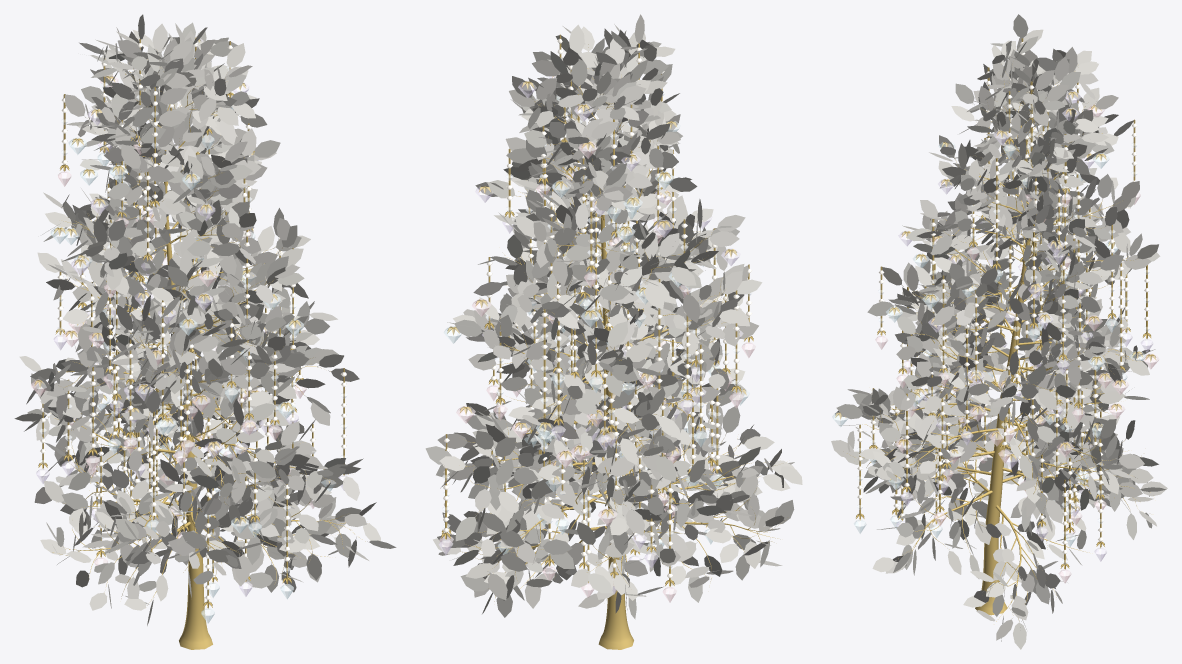
File: houju_tree.glb
The picture shows the model from 3 angles, left to right: view 1: azimuth 30°, elevation 25°; view 2: azimuth 150°, elevation 25°; view 3: azimuth 270°, elevation 25°; orthographic projection. The views are drawn at different scales.
Parts seen in each view (by area): view 1: Leaves, pearl_batch, gold_wire, mizu_batch, fuji_batch, sakura_batch, gold_fitting, Branches2, hari_batch, Trunk, Branches1; view 2: Leaves, gold_wire, pearl_batch, sakura_batch, mizu_batch, gold_fitting, fuji_batch, hari_batch, Branches2, Trunk, Branches1; view 3: Leaves, gold_wire, pearl_batch, Branches2, sakura_batch, fuji_batch, mizu_batch, gold_fitting, hari_batch, Branches1, Trunk.
Boxes of the visible parts, x1,y1,x2,y2 form: Leaves: [14, 14, 396, 625]; pearl_batch: [40, 42, 346, 600]; gold_wire: [42, 38, 344, 607]; mizu_batch: [50, 106, 335, 623]; fuji_batch: [36, 36, 347, 596]; sakura_batch: [31, 75, 314, 565]; gold_fitting: [34, 37, 348, 608]; Branches2: [45, 71, 365, 605]; hari_batch: [39, 66, 347, 573]; Trunk: [164, 150, 212, 649]; Branches1: [50, 69, 345, 563]; Leaves: [425, 14, 802, 619]; gold_wire: [445, 34, 749, 586]; pearl_batch: [443, 38, 751, 578]; sakura_batch: [439, 141, 755, 602]; mizu_batch: [444, 95, 749, 554]; gold_fitting: [441, 76, 753, 586]; fuji_batch: [439, 76, 743, 594]; hari_batch: [442, 79, 752, 573]; Branches2: [460, 44, 778, 601]; Trunk: [598, 215, 633, 649]; Branches1: [469, 70, 767, 564]; Leaves: [831, 14, 1167, 649]; gold_wire: [859, 38, 1147, 568]; pearl_batch: [857, 41, 1149, 554]; Branches2: [847, 71, 1150, 621]; sakura_batch: [875, 104, 1159, 583]; fuji_batch: [896, 91, 1153, 561]; mizu_batch: [832, 138, 1146, 546]; gold_fitting: [835, 91, 1155, 569]; hari_batch: [857, 90, 1150, 564]; Branches1: [864, 84, 1135, 608]; Trunk: [975, 117, 1031, 615].
Size of the model in its own units: 4.55 by 8.5 by 4.5.
